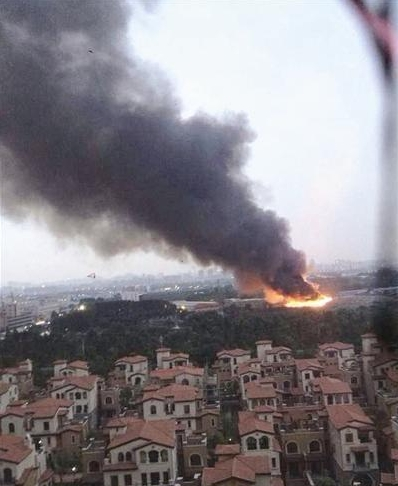山火: (264, 285, 332, 309)
烟雾: (0, 0, 331, 309)
